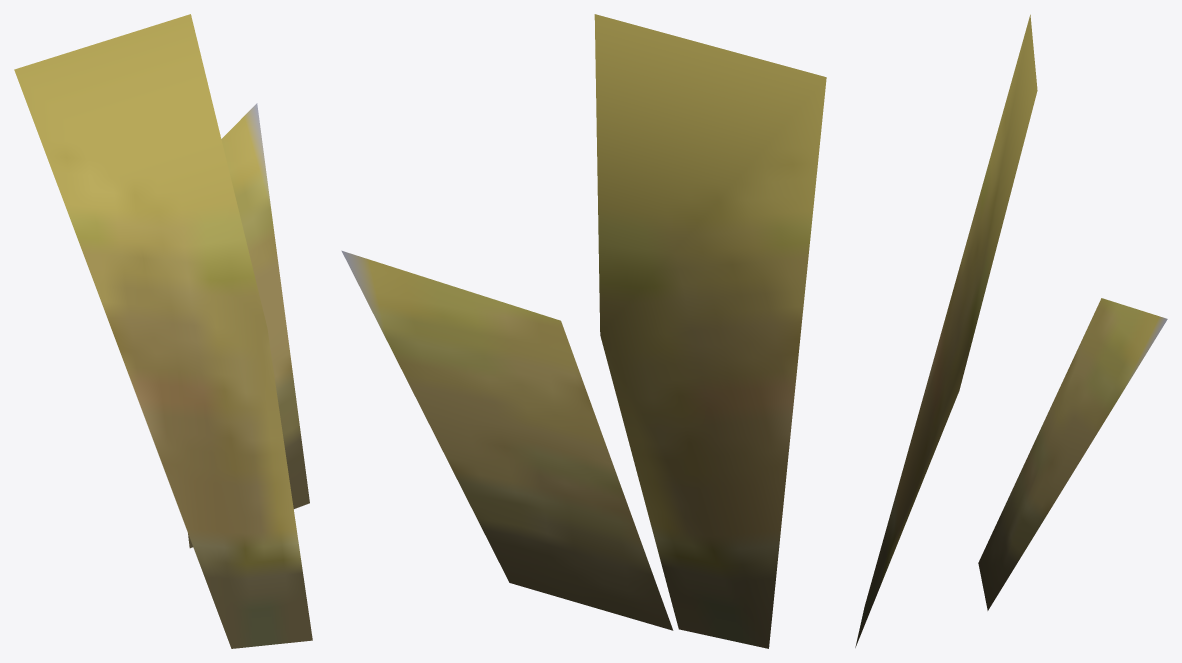
File: fg_grassA.dae
3 renders of one model, left to right at view 1: azimuth 30°, elevation 25°; view 2: azimuth 150°, elevation 25°; view 3: azimuth 270°, elevation 25°, orthographic. The views are drawn at different scales.
Parts seen in each view (by area): view 1: fg_grassA; view 2: fg_grassA; view 3: fg_grassA.
Boxes of the visible parts, left/top/right/bottom form: fg_grassA: left=14, top=14, right=312, bottom=648; fg_grassA: left=341, top=14, right=826, bottom=648; fg_grassA: left=855, top=14, right=1167, bottom=647.
Size of the model in its own units: 11.97 by 20.54 by 10.68.
Materials: 1 (1 with a texture image).
